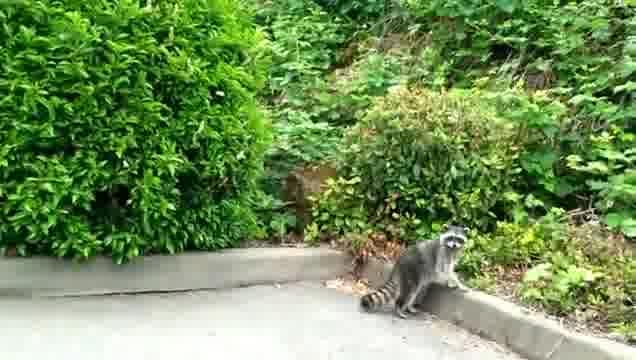raccoon: (360, 223, 471, 319)
